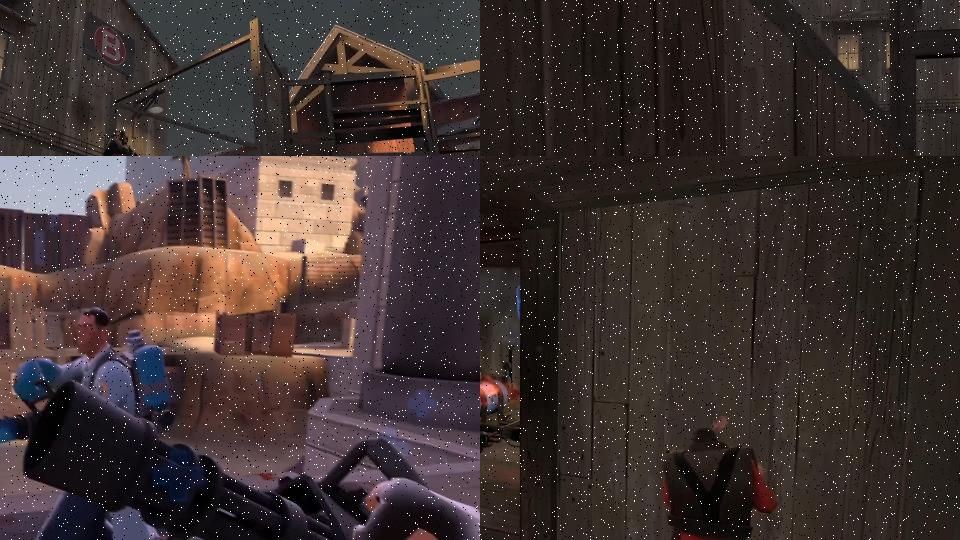Enemy: (0, 307, 176, 540), (648, 425, 779, 540), (480, 369, 519, 481), (99, 129, 141, 156)
